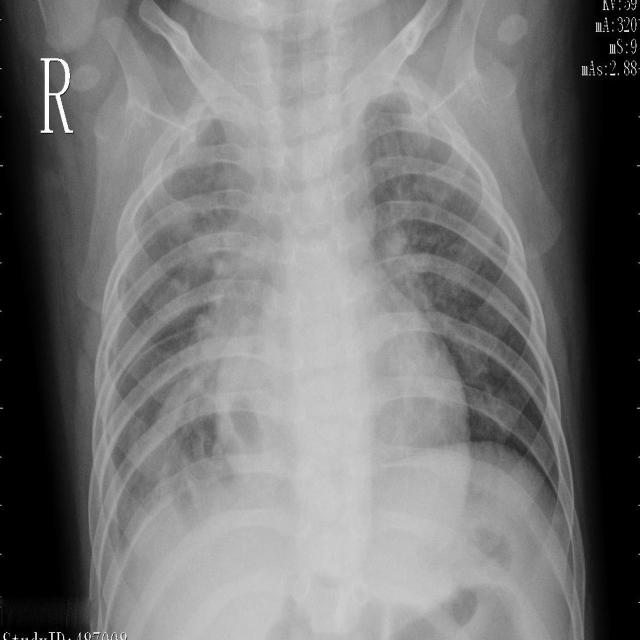low-pneumonia: (162, 180, 263, 455), (368, 171, 449, 325)
